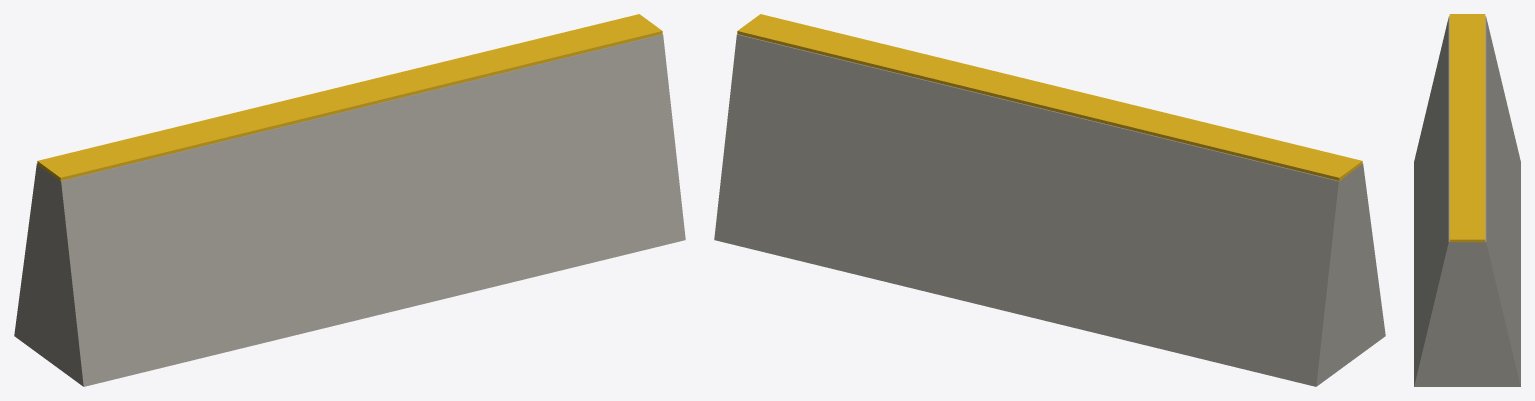
The model's file is barrier.glb.
The picture shows the model from 3 angles, left to right: view 1: azimuth 30°, elevation 25°; view 2: azimuth 150°, elevation 25°; view 3: azimuth 270°, elevation 25°; orthographic projection. The views are drawn at different scales.
Parts seen in each view (by area): view 1: barrier_Body; view 2: barrier_Body; view 3: barrier_Body.
Part boxes in pixels (x1=…): barrier_Body: x1=14, y1=14, x2=685, y2=386; barrier_Body: x1=714, y1=14, x2=1385, y2=386; barrier_Body: x1=1414, y1=14, x2=1520, y2=386.
Bounding box in the file's own units: 3 × 0.915 × 0.6.
